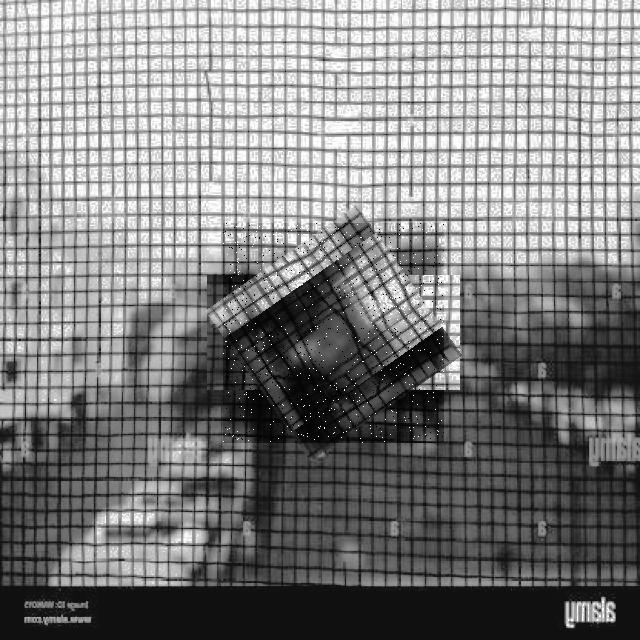anomaly-fence: (223, 223, 444, 443)
